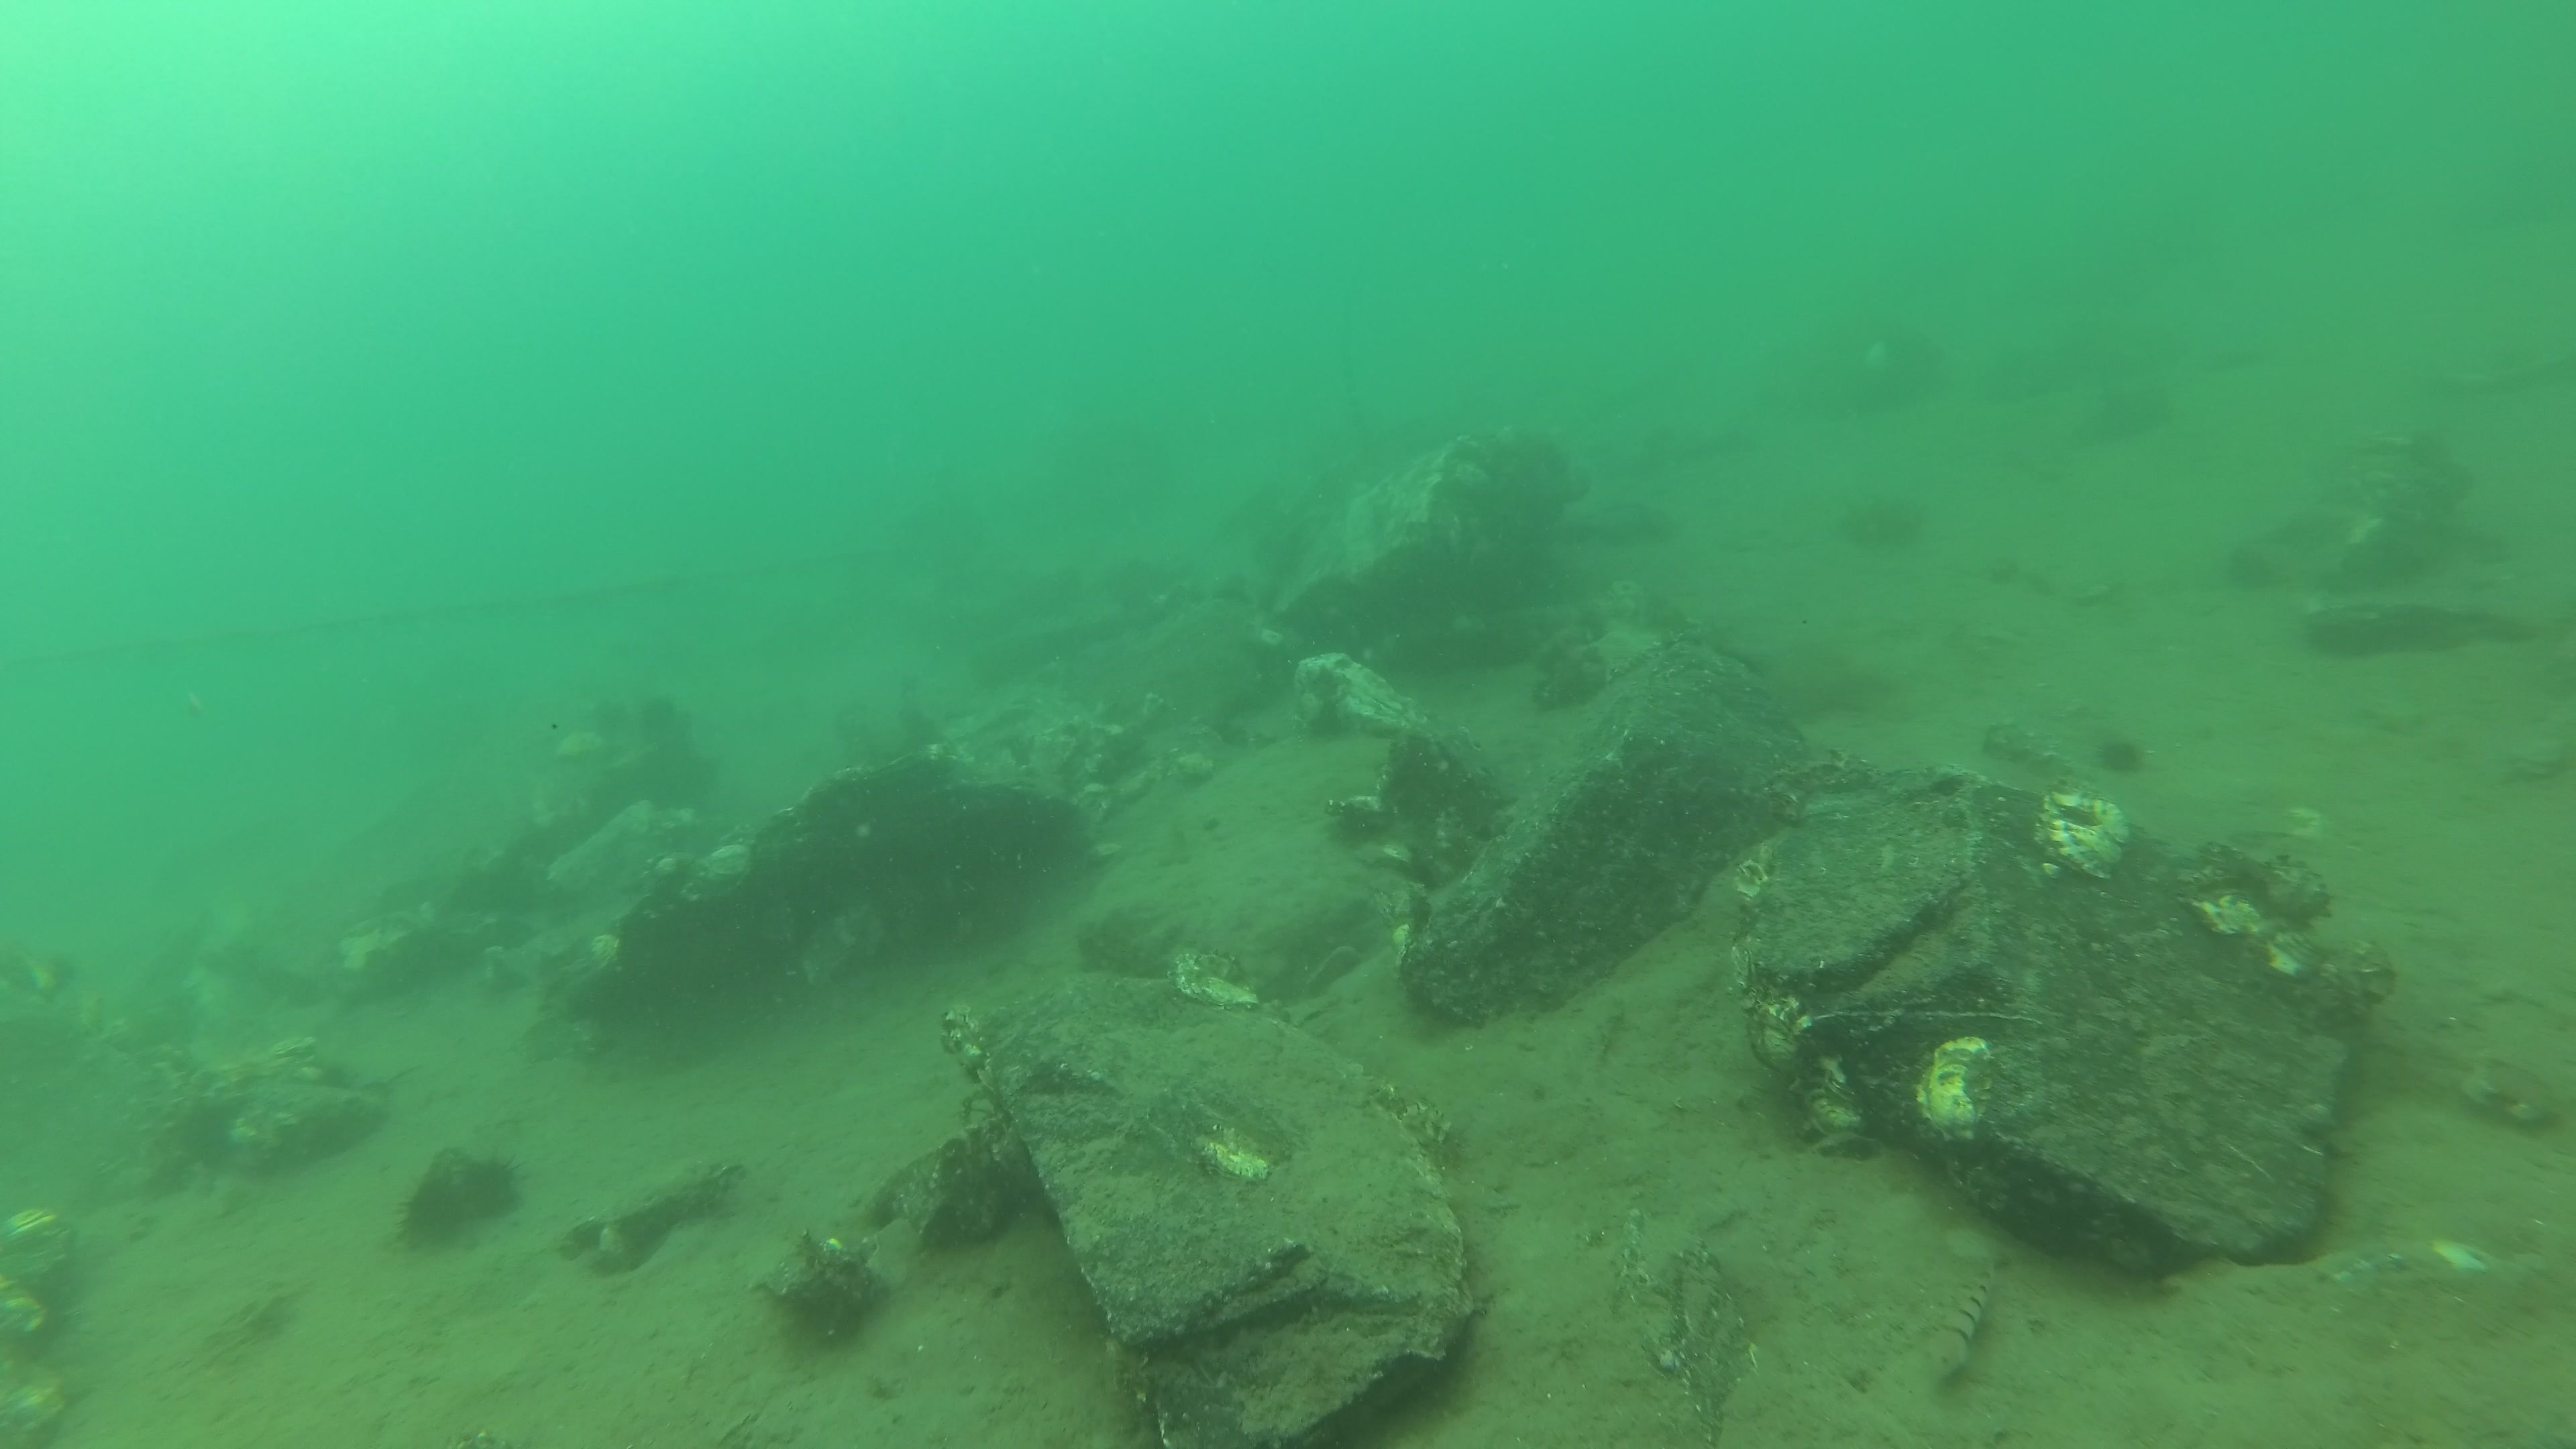echinus: (460, 1145, 529, 1217), (2093, 727, 2160, 791), (389, 1187, 458, 1249)
